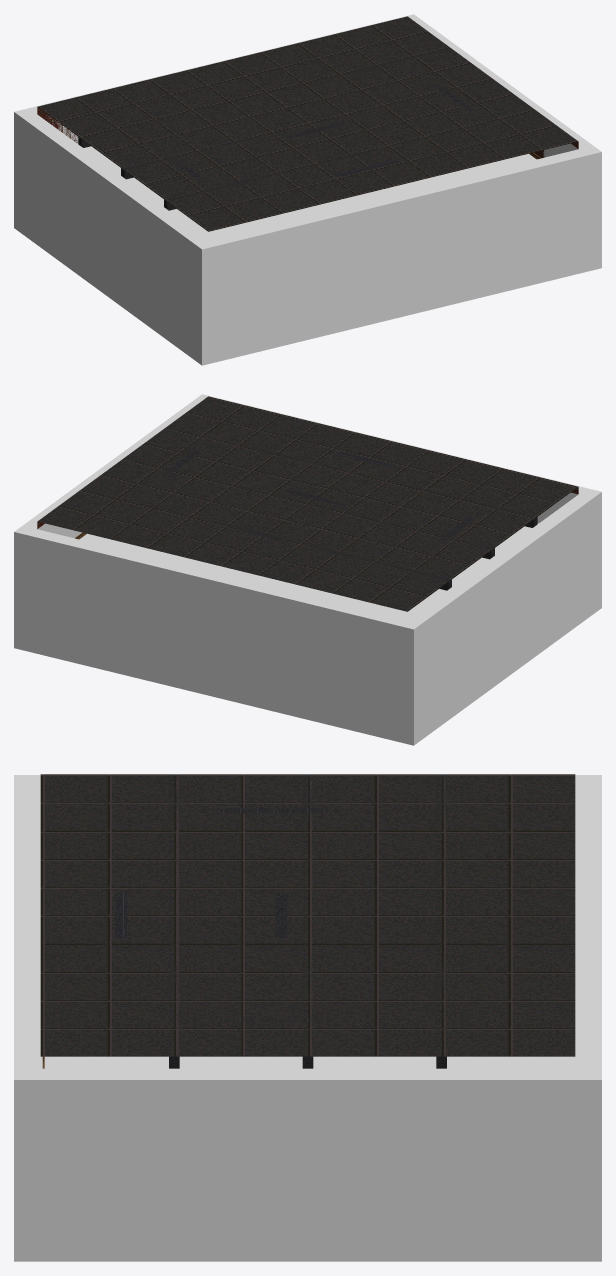
Rendered from workshop.glb.
3 renders of one model, top to bottom at view 1: azimuth 30°, elevation 25°; view 2: azimuth 150°, elevation 25°; view 3: azimuth 270°, elevation 25°, orthographic. The views are drawn at different scales.
Parts seen in each view (by area): view 1: Room_Shell, COL_Wall_S, COL_Wall_W, COL_Wall_N, COL_Wall_E, TRG_CAM_2, TRG_CAM_4, TRG_CAM_3, Beam_3; view 2: Room_Shell, COL_Wall_N, COL_Wall_W, COL_Wall_S, COL_Wall_E, TRG_CAM_1, TRG_CAM_2, TRG_CAM_3, Beam_1, Beam_3; view 3: Room_Shell, COL_Wall_E, COL_Wall_N, COL_Wall_S, TRG_CAM_3, Beam_2, Beam_1, Beam_3, Light_Fluor_W_Housing.
Part boxes in pixels (left/top/right/bottom): Room_Shell: left=37, top=16, right=578, bottom=231; COL_Wall_S: left=193, top=145, right=601, bottom=365; COL_Wall_W: left=22, top=114, right=207, bottom=359; COL_Wall_N: left=14, top=14, right=421, bottom=233; COL_Wall_E: left=416, top=20, right=592, bottom=157; TRG_CAM_2: left=77, top=143, right=285, bottom=239; TRG_CAM_4: left=264, top=179, right=430, bottom=223; TRG_CAM_3: left=413, top=153, right=536, bottom=187; Beam_3: left=164, top=128, right=463, bottom=210; Room_Shell: left=37, top=396, right=578, bottom=611; COL_Wall_N: left=14, top=525, right=422, bottom=745; COL_Wall_W: left=408, top=494, right=593, bottom=739; COL_Wall_S: left=194, top=394, right=601, bottom=613; COL_Wall_E: left=23, top=400, right=199, bottom=538; TRG_CAM_1: left=166, top=555, right=365, bottom=607; TRG_CAM_2: left=331, top=523, right=538, bottom=619; TRG_CAM_3: left=79, top=533, right=202, bottom=567; Beam_1: left=146, top=505, right=451, bottom=590; Beam_3: left=167, top=427, right=537, bottom=527; Room_Shell: left=40, top=774, right=575, bottom=1056; COL_Wall_E: left=40, top=1068, right=575, bottom=1261; COL_Wall_N: left=575, top=775, right=601, bottom=1261; COL_Wall_S: left=14, top=775, right=40, bottom=1261; TRG_CAM_3: left=40, top=1056, right=575, bottom=1068; Beam_2: left=302, top=774, right=313, bottom=1068; Beam_1: left=436, top=774, right=446, bottom=1068; Beam_3: left=169, top=774, right=179, bottom=1068; Light_Fluor_W_Housing: left=221, top=808, right=327, bottom=813.
Bounding box in the file's own units: 10.8 × 3.2 × 8.8.
27 materials, 27 textured.
